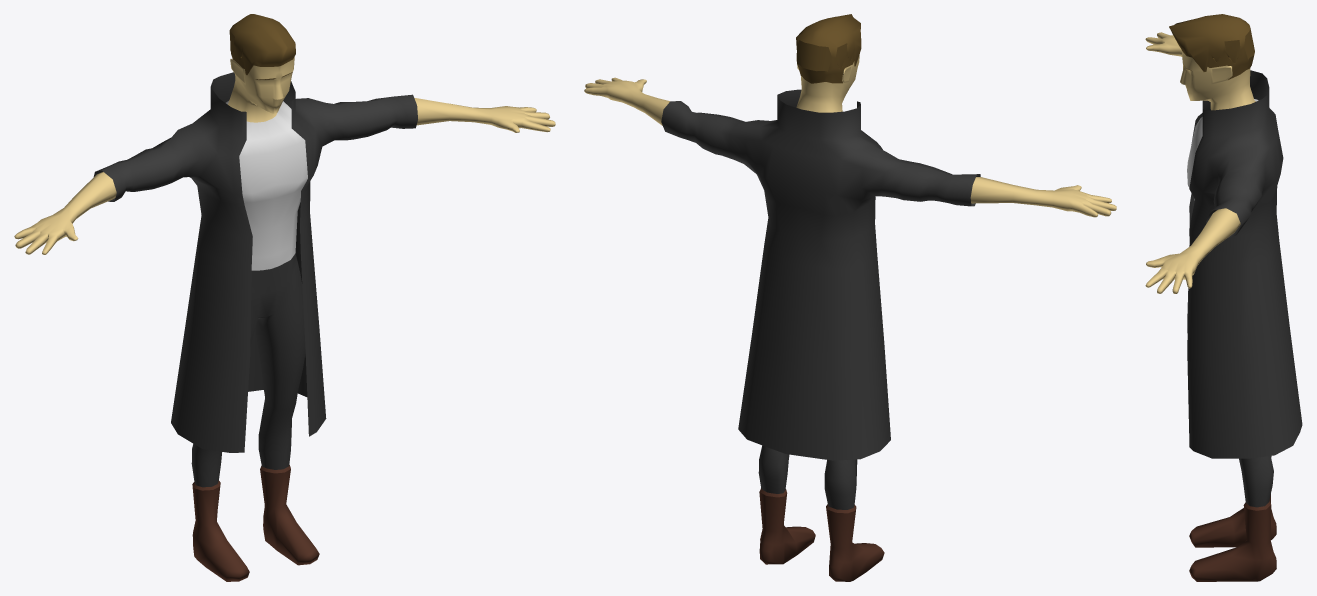
3 renders of one model, left to right at view 1: azimuth 30°, elevation 25°; view 2: azimuth 150°, elevation 25°; view 3: azimuth 270°, elevation 25°, orthographic.
Parts seen in each view (by area): view 1: GG; view 2: GG; view 3: GG.
Boxes of the visible parts, x1=… form: GG: x1=14, y1=14, x2=555, y2=581; GG: x1=584, y1=14, x2=1116, y2=581; GG: x1=1145, y1=14, x2=1302, y2=581.
Size of the model in its own units: 190 by 184 by 48.32.
